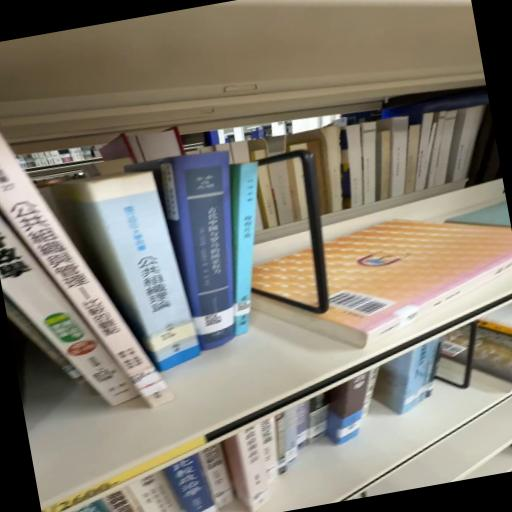flat: (252, 219, 512, 347), (252, 249, 315, 305)
